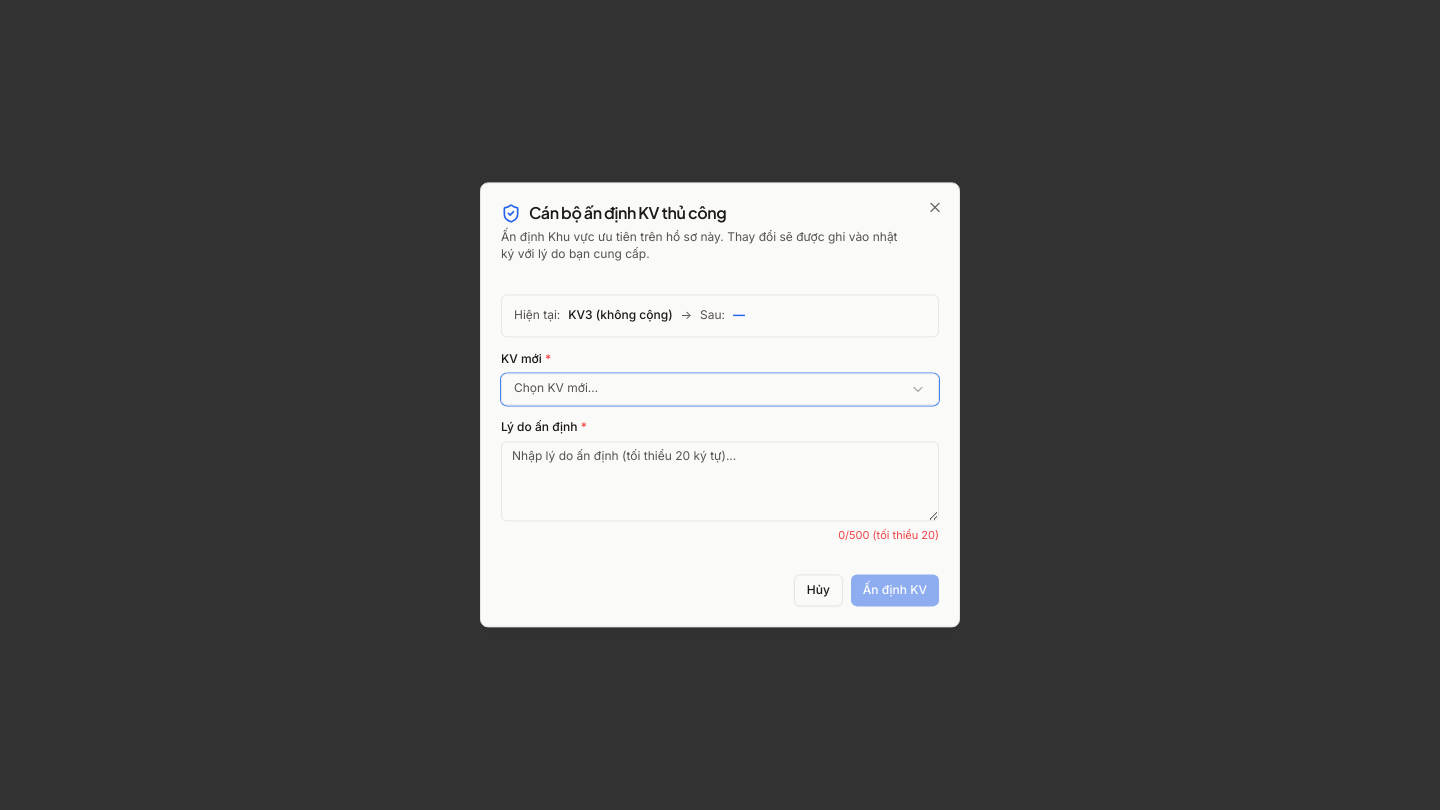
Scenario: PriorityOverrideDialog › 409 ConflictError surfaces refresh prompt + cache invalidate handled by hook
// Fill reason + change KV → submit enabled
Type "Lý do override 20+ ký tự valid cho test 409" into the text box with test id "override-reason-input".
click(720, 481); type("Lý do override 20+ ký tự valid cho test 409")  # box x1=501 y1=441 x2=939 y2=521
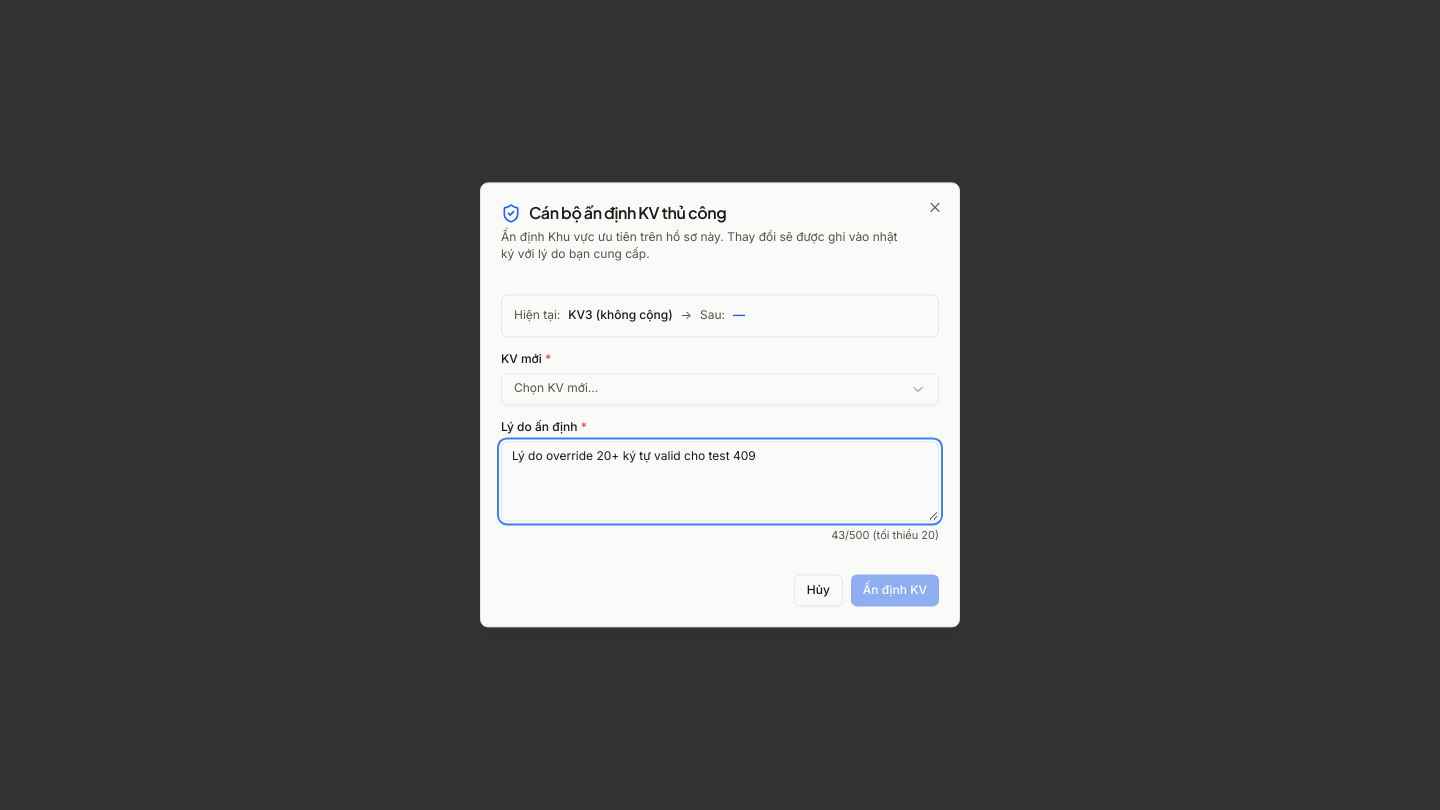
// Open select + pick KV1
Click the dropdown with test id "override-kv-select".
click(556, 388)  # box x1=501 y1=373 x2=939 y2=405
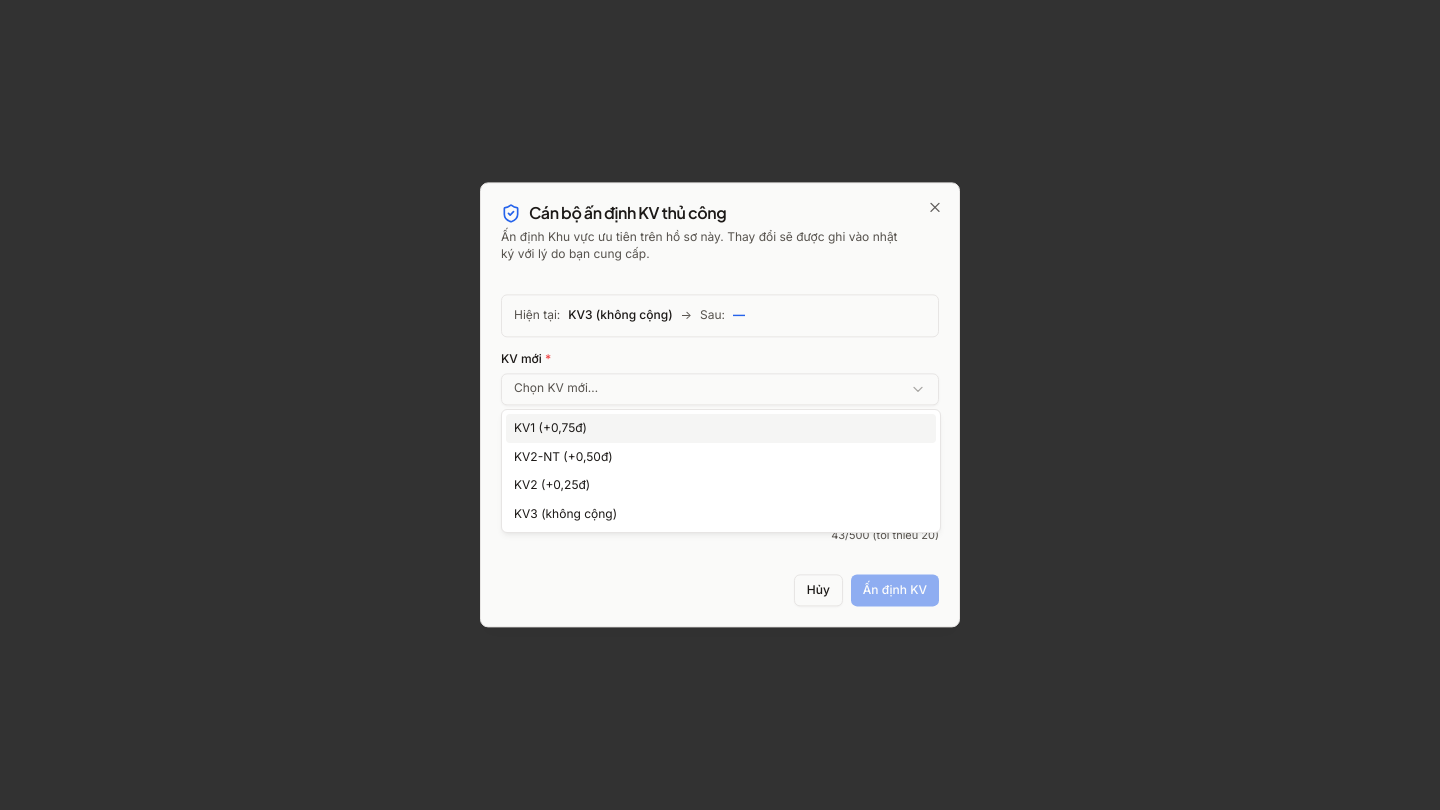
Click the option "KV1 (+0,75đ)".
click(550, 428)  # box x1=506 y1=414 x2=936 y2=442
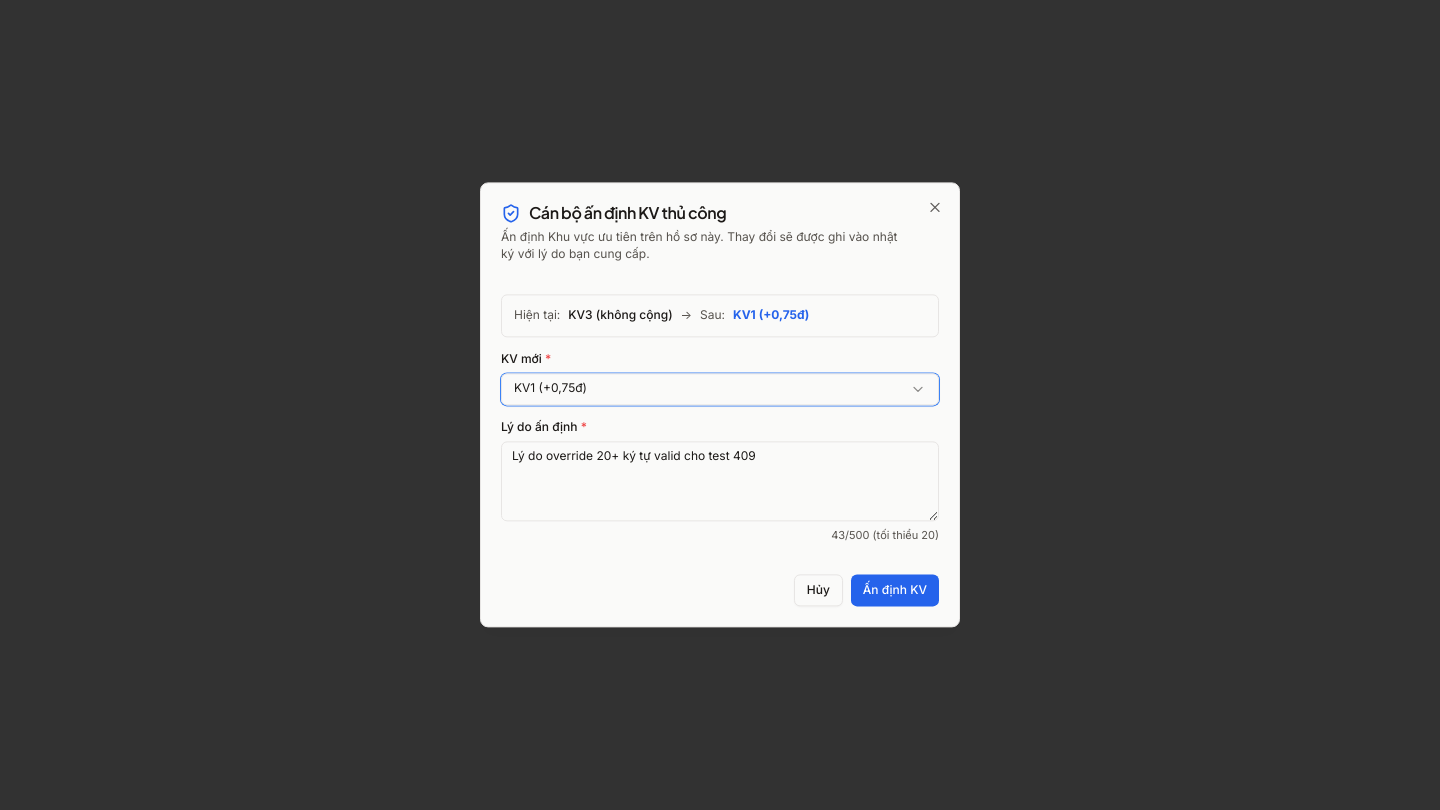
Click the button with test id "override-submit".
click(895, 591)  # box x1=851 y1=575 x2=939 y2=607
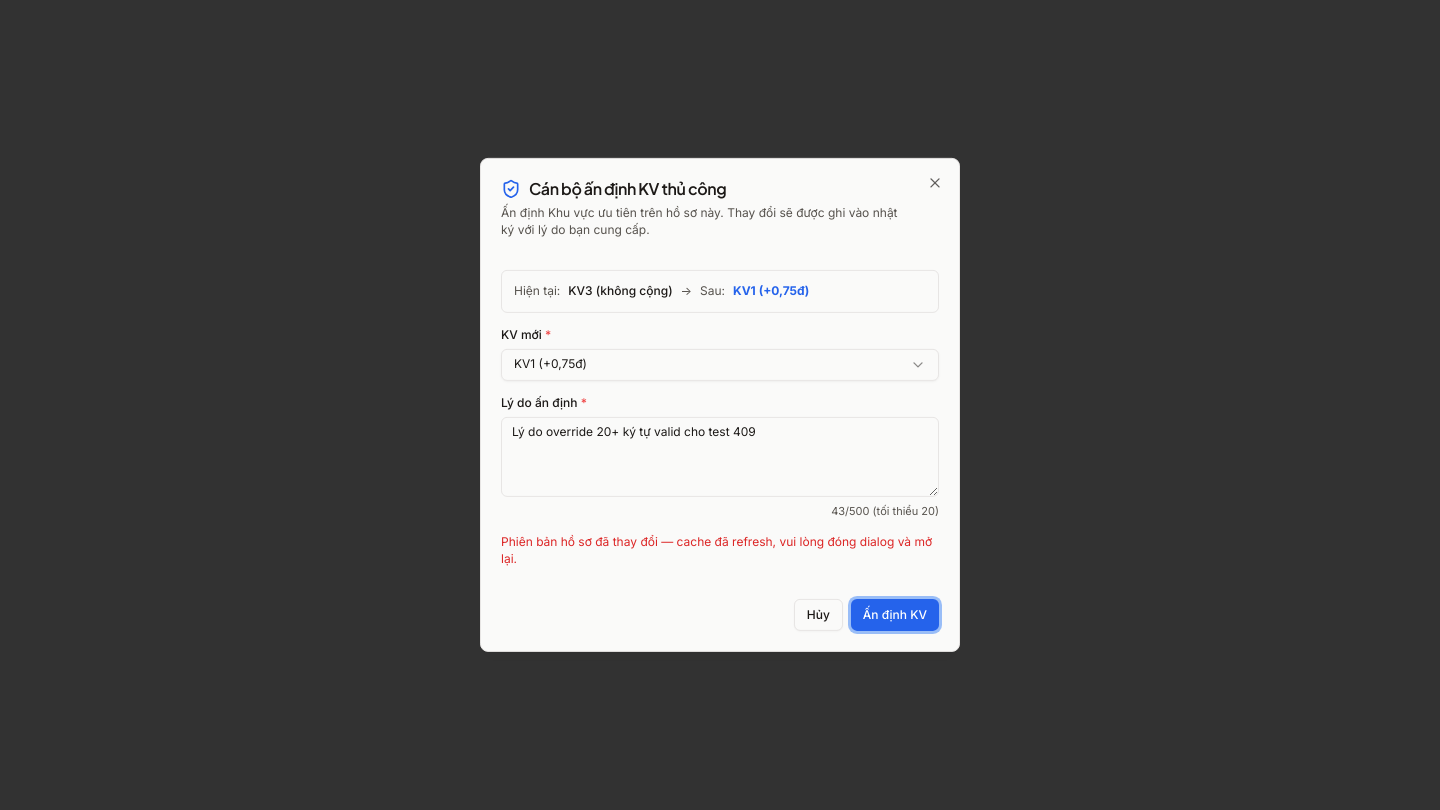
Expected: the message with test id "override-error" is shown, x1=501 y1=534 x2=939 y2=567
